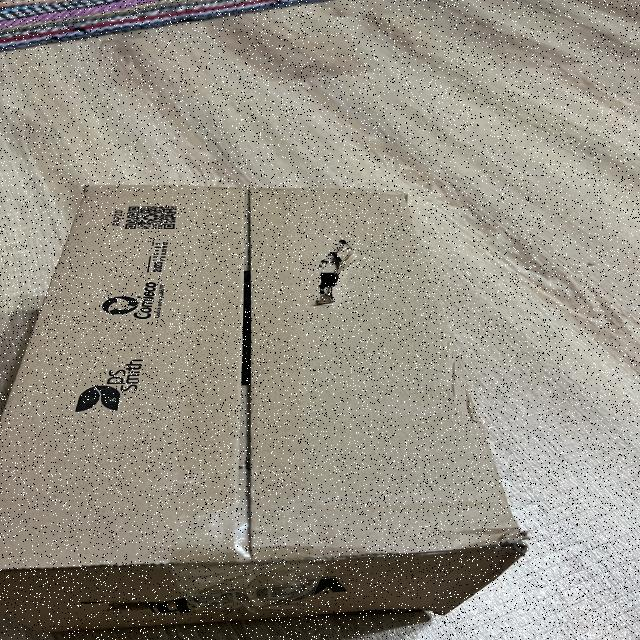damaged: (1, 181, 542, 637), (298, 232, 376, 319)
